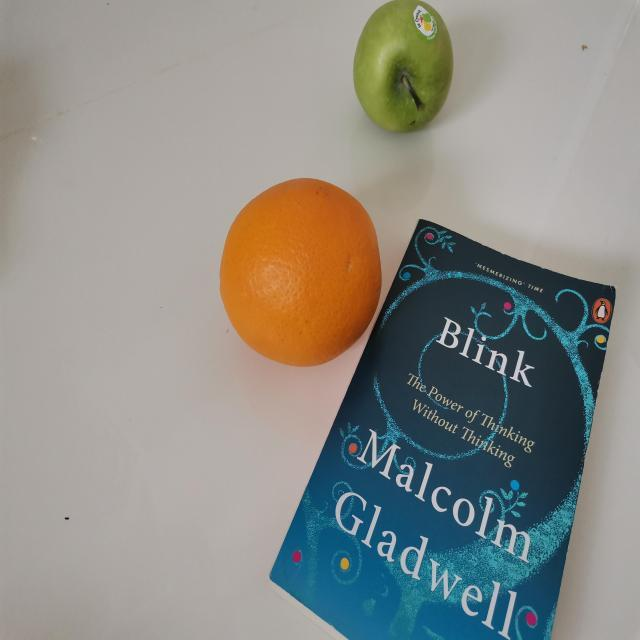Apple: (351, 0, 457, 138)
Book: (263, 218, 621, 636)
Orange: (214, 176, 390, 370)
